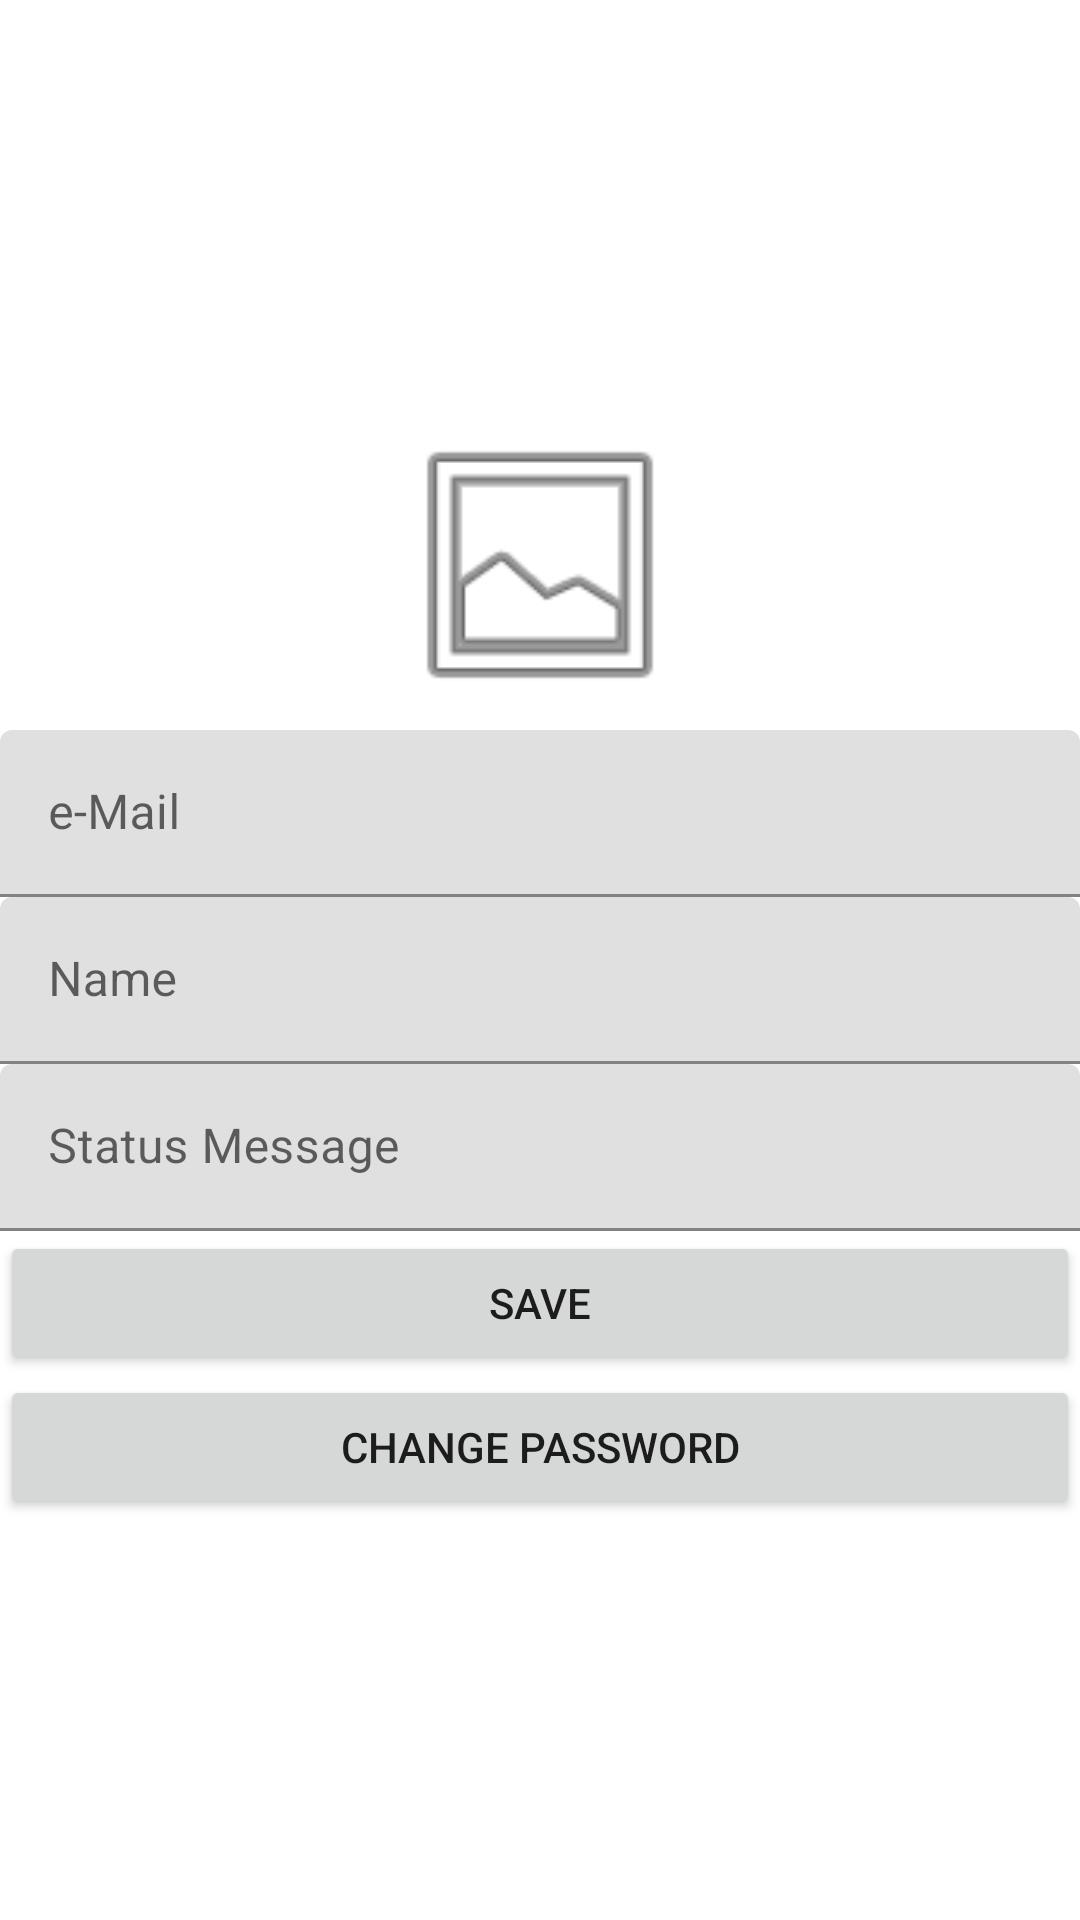

Icon bounding boxes for this 1080*1920 phone screenshot, format rect(x1, y1, x2, y2):
gallery: rect(427, 452, 653, 678)
